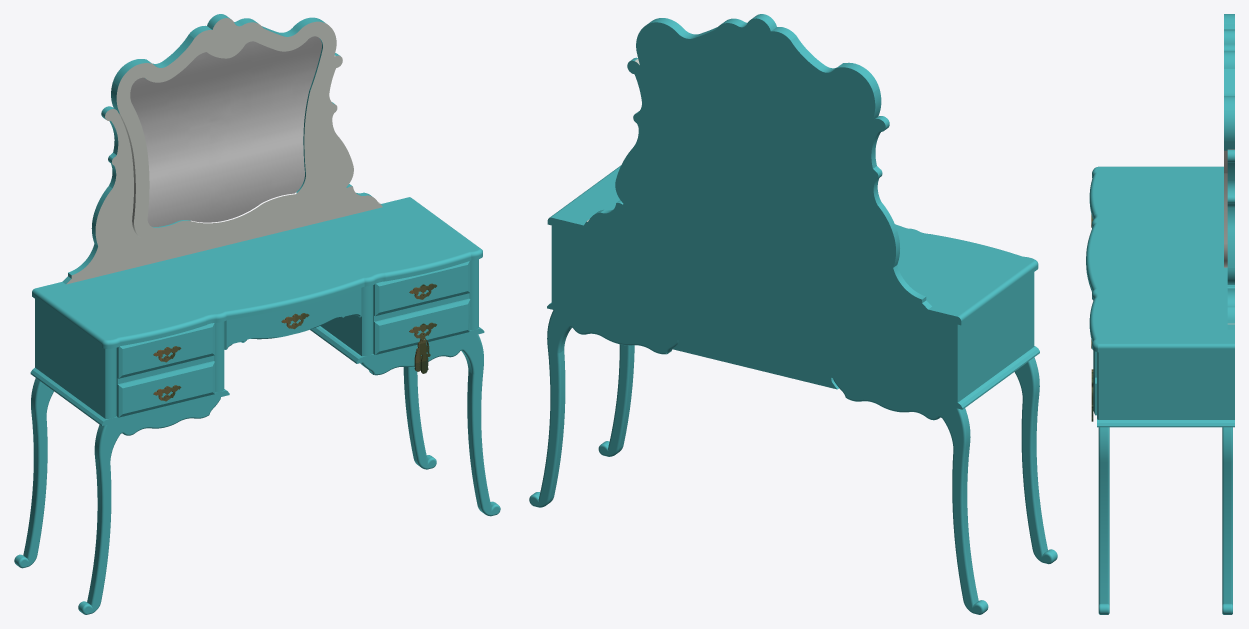
File: penteadeira.glb
3 renders of one model, left to right at view 1: azimuth 30°, elevation 25°; view 2: azimuth 150°, elevation 25°; view 3: azimuth 270°, elevation 25°, orthographic. The views are drawn at different scales.
Visible parts, largest first — view 1: root; view 2: root; view 3: root.
Boxes of the visible parts, box(x1,y1,x2,y2) form: root: box(14, 14, 500, 614); root: box(529, 14, 1057, 614); root: box(1086, 14, 1234, 614).
Bounding box in the file's own units: 1.29 × 1.47 × 0.4097.
Materials: 4 (3 with a texture image).
